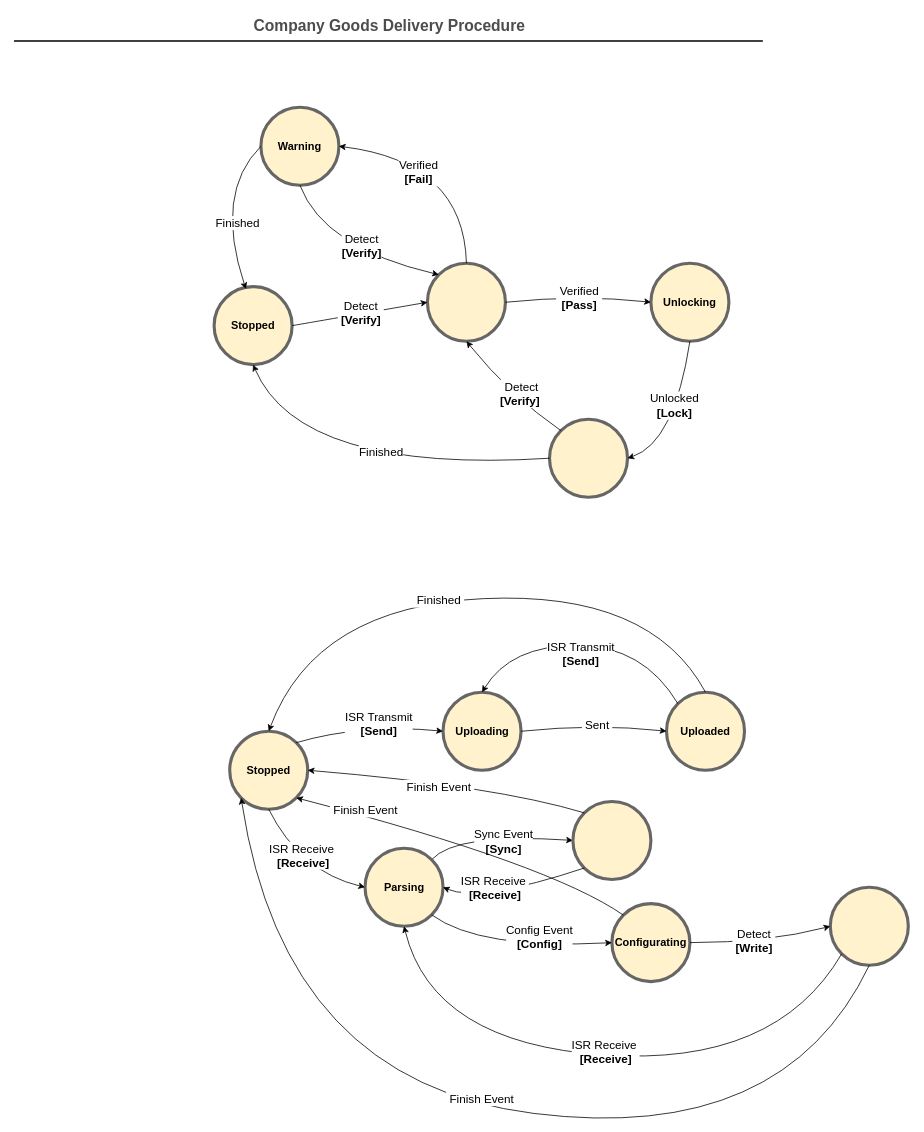
Image size: 924x1132. Some labels were removed from this diagram. Each missing label, with the centre of its shape:
"Locking" belongs at point (588, 457).
"Synchorizing" belongs at point (611, 840).
"Verifying" belongs at point (466, 301).
"Writing" belongs at point (868, 925).
